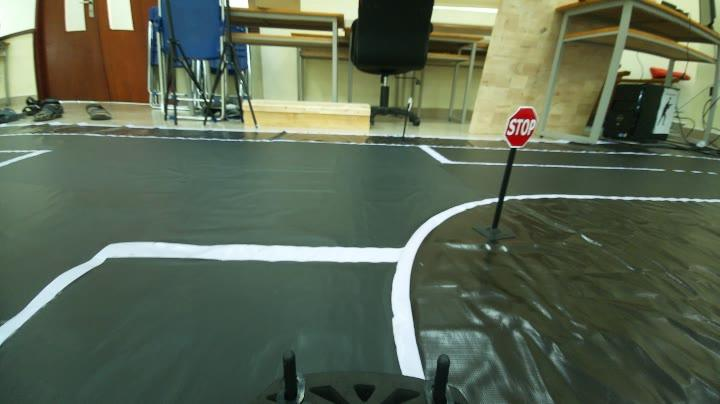stop: (500, 104, 548, 150)
